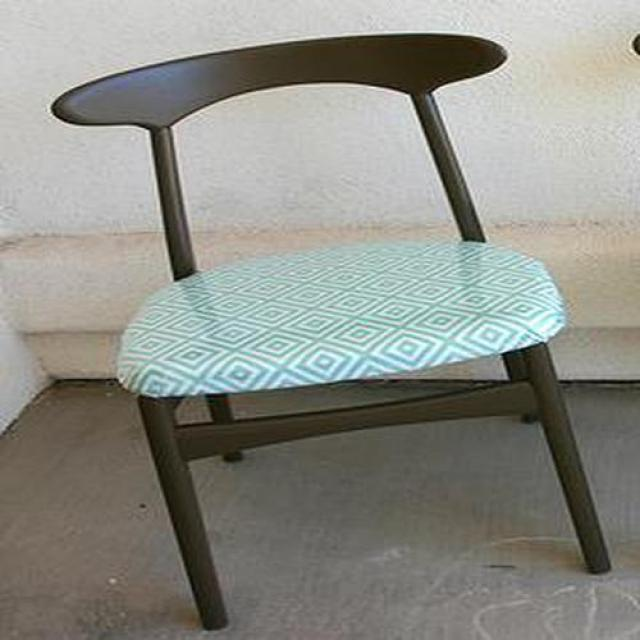chair: (51, 35, 614, 634)
